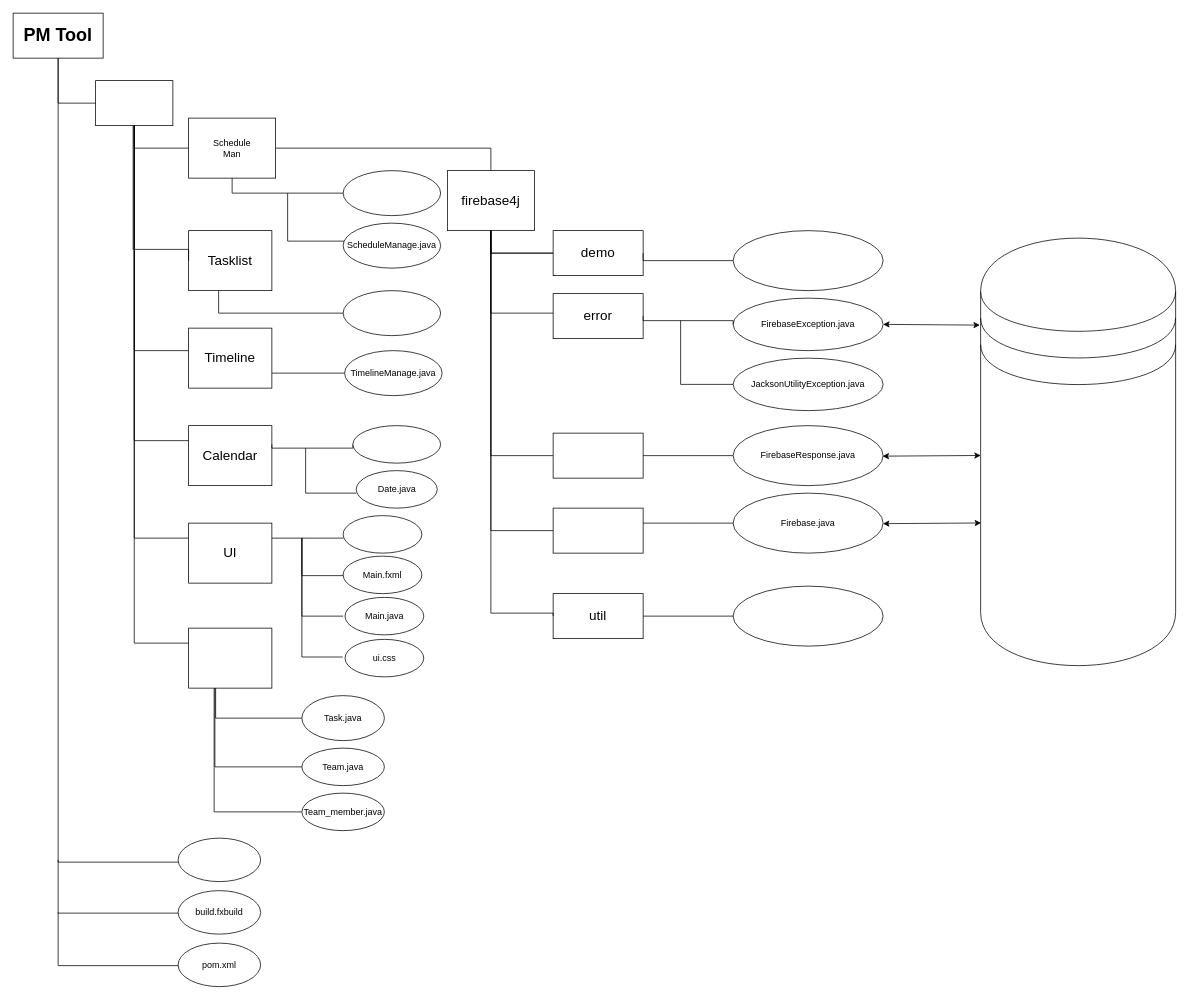
Some shapes in this 1189 by 1000 pixel diagram are drawn without their labels. The shapes that lost their labels are listed below. From the top down, each one's box as (x1, y1, x2, y2) in pixels, then its label:
(95, 80, 173, 126): src/main/java
(342, 170, 441, 216): ManageGUI.java
(732, 230, 883, 291): Demo.java
(342, 290, 441, 336): TaskListFuncs.java
(352, 425, 441, 463): Calendar.java
(552, 432, 643, 478): model
(980, 237, 1176, 666): Firebase remote DB
(342, 515, 422, 553): Controller.java
(552, 507, 643, 553): service
(732, 585, 883, 646): JacksonUtility.java
(188, 627, 272, 688): DataClass
(177, 837, 261, 882): README.md
